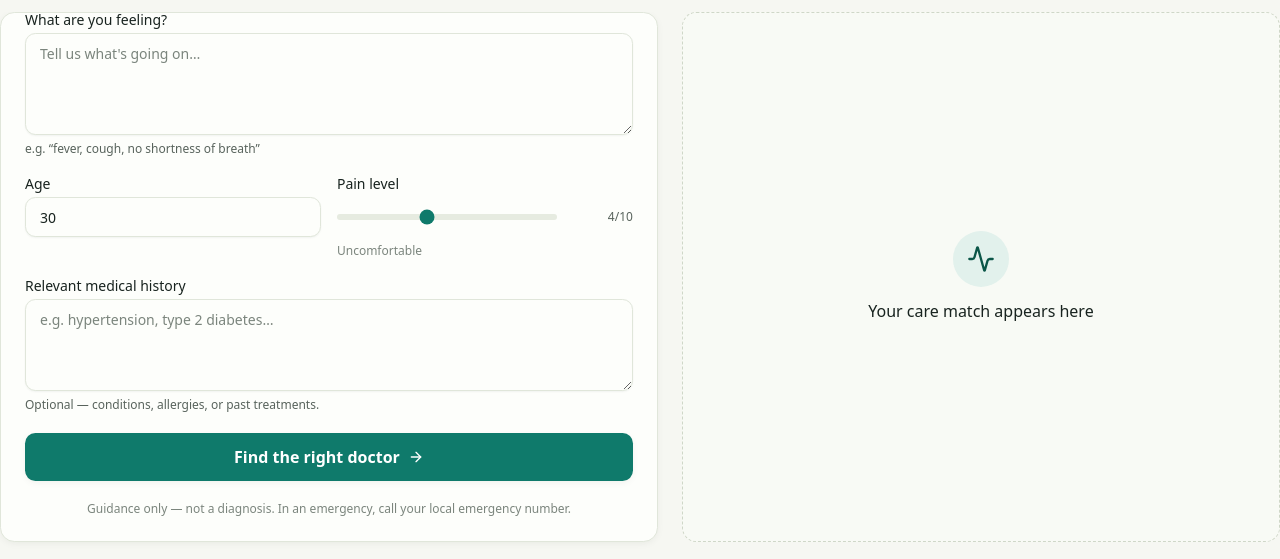
Scenario: SymptomChecker smart check › shows "not enough information" with General Medicine instead of a keyword guess
Click the text box labelled "What are you feeling?": (329, 84) [25,33,633,135]
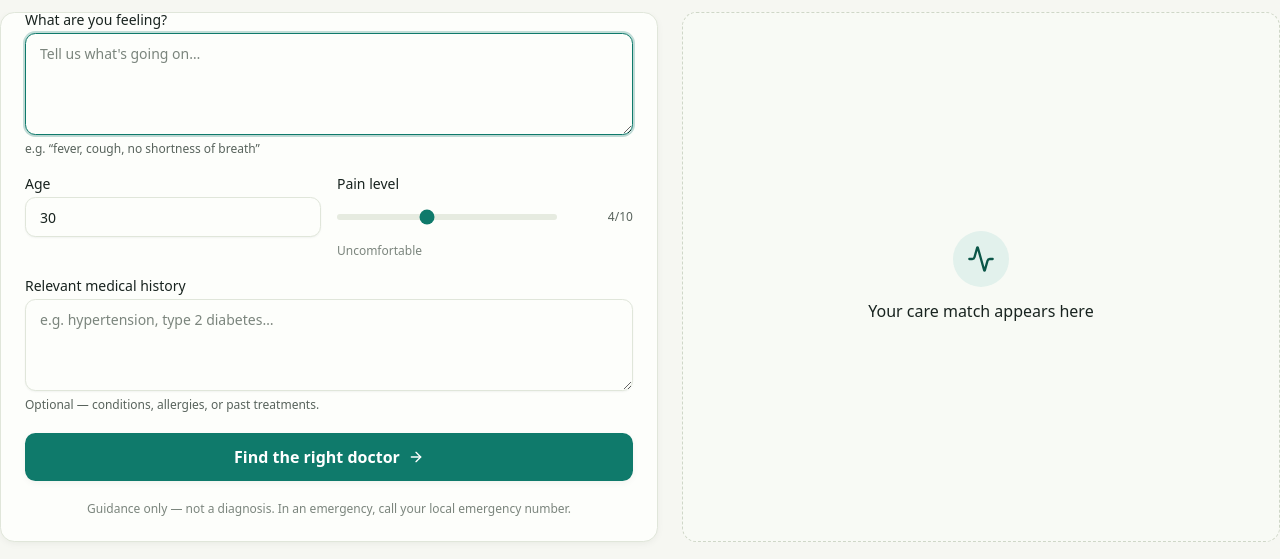
Type keys "fever, nausea, dizziness"
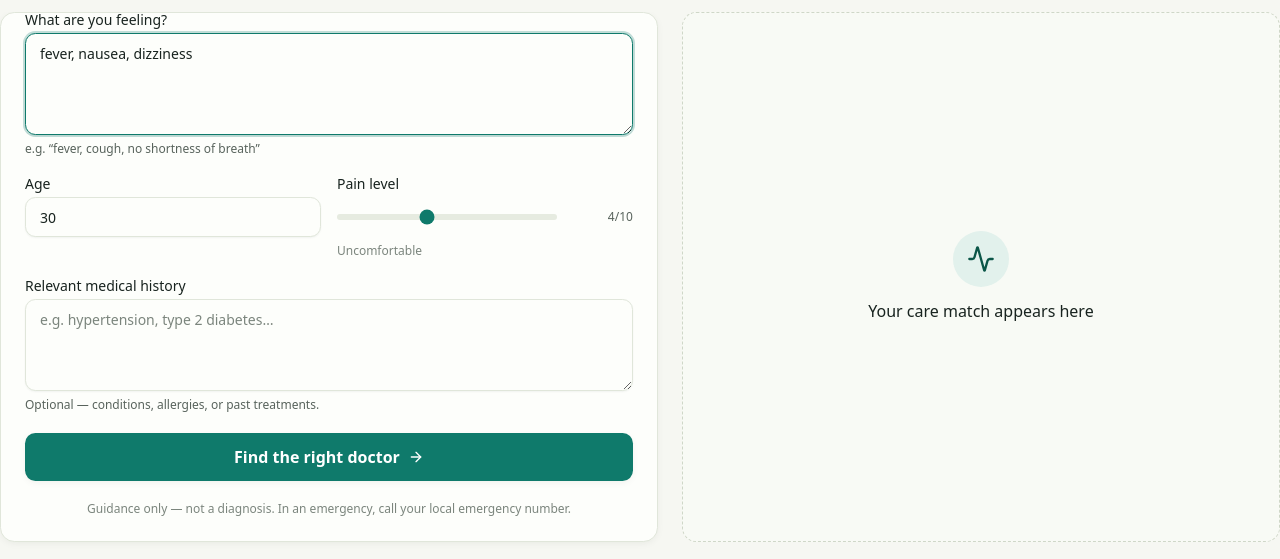
Click the button "Find the right doctor": (329, 457) [25,433,633,481]
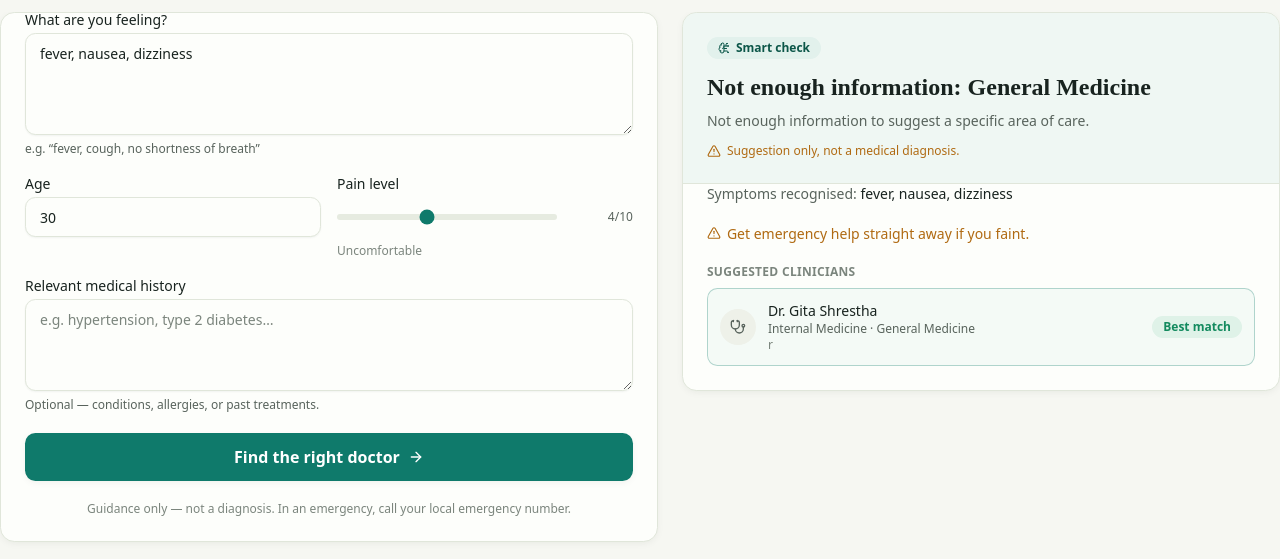
Expected: the text "Not enough information: General Medicine" is shown, [707,74,1151,100]
Expected: the text "Get emergency help straight away if you faint." is shown, [707,224,1029,243]
Expected: the text "Dr. Gita Shrestha" is shown, [768,301,877,320]
